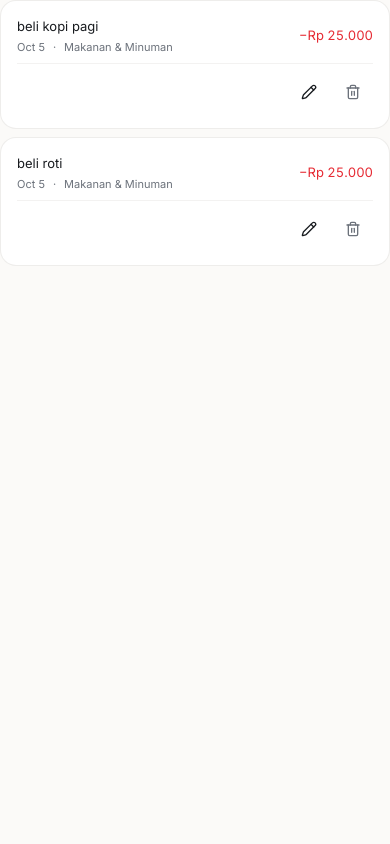
Test case: M-4: responsive touch-target wiring (fe half; pixels = manual leg) › the mobile-card instance is functional (opens the same dialog)
Click the button named "Delete transaction" below "beli kopi pagi".
click(353, 92)  # box [333,72,373,112]
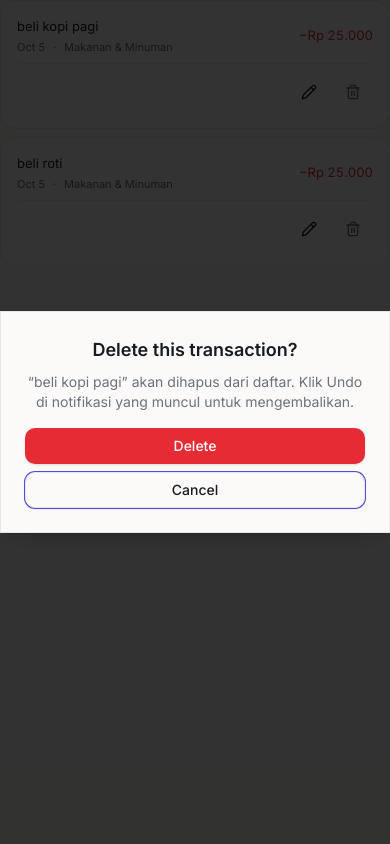
Now the heading "Delete this transaction?" is shown, box [92,339,298,360]
